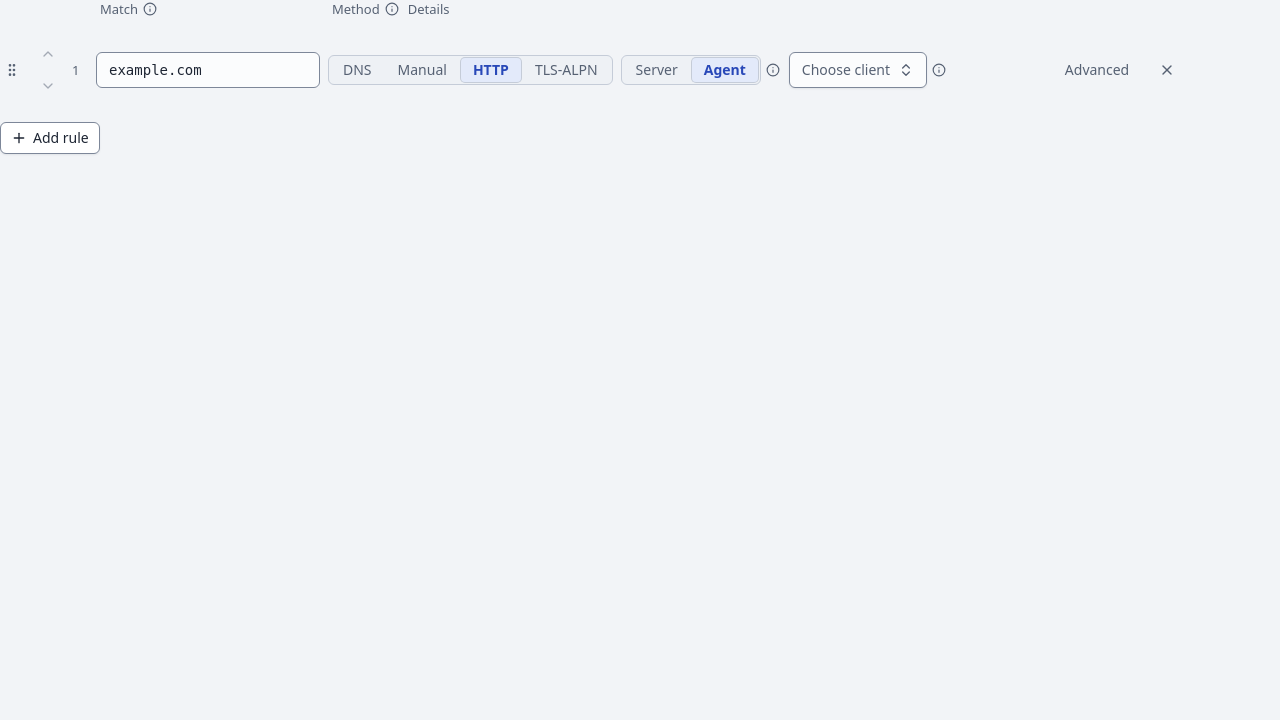
http-01 via agent shows a client combobox filtered by capability
Click the dropdown named "Rule 1 client": (858, 70) x1=789 y1=52 x2=927 y2=88
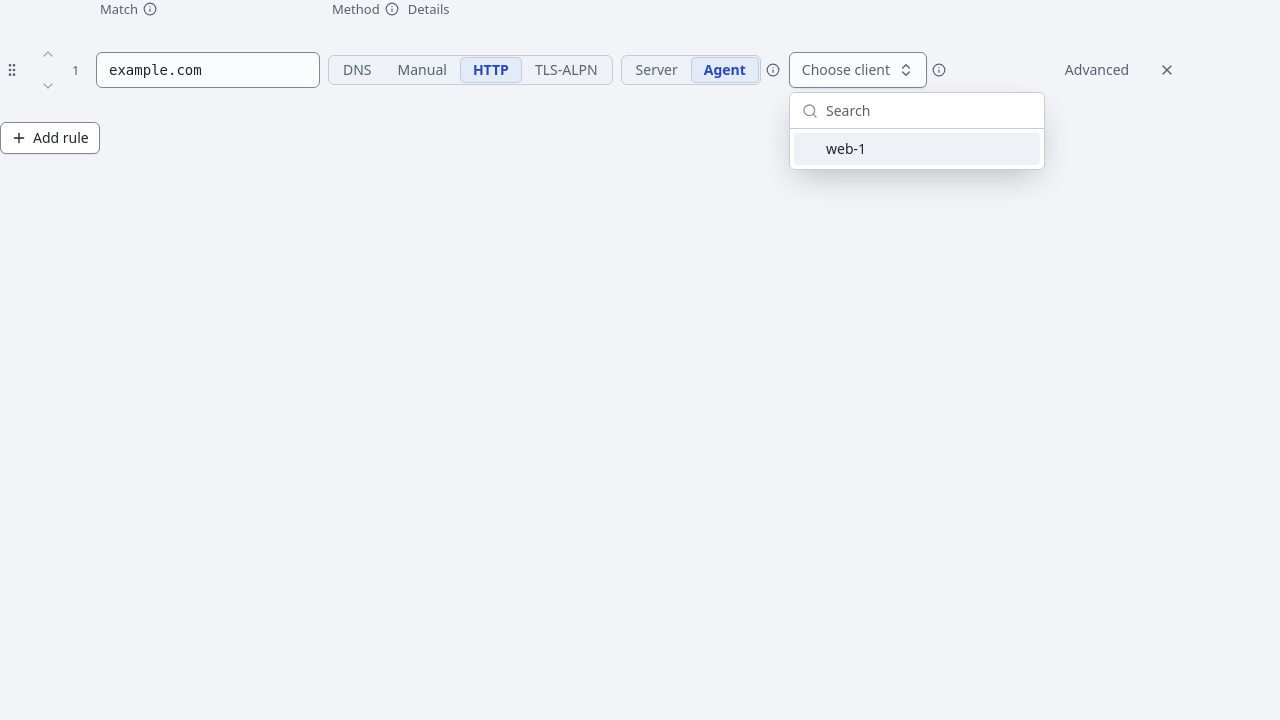
Now the option "web-1" is shown, box x1=794 y1=133 x2=1040 y2=165
